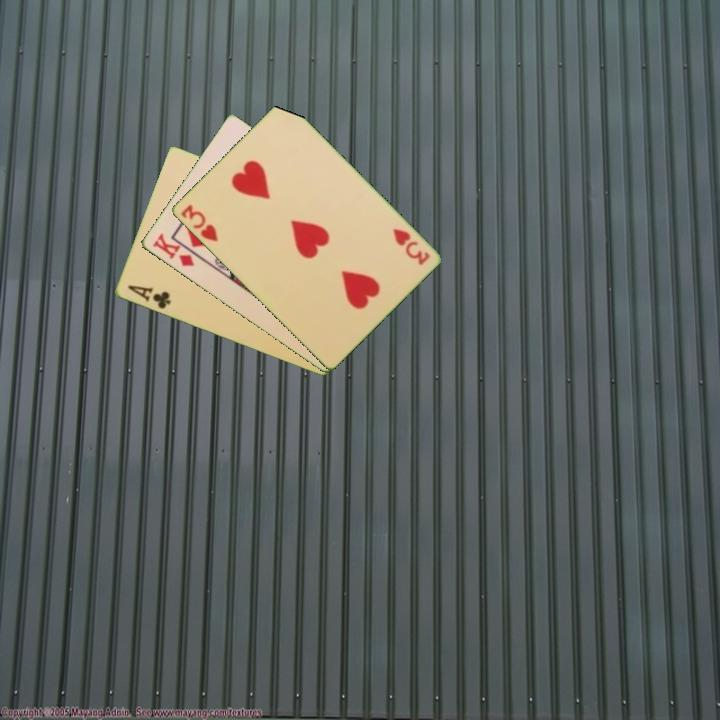3h: (177, 201, 221, 245), (389, 225, 432, 268)
Ac: (124, 282, 173, 312)
Kd: (149, 229, 197, 270)
